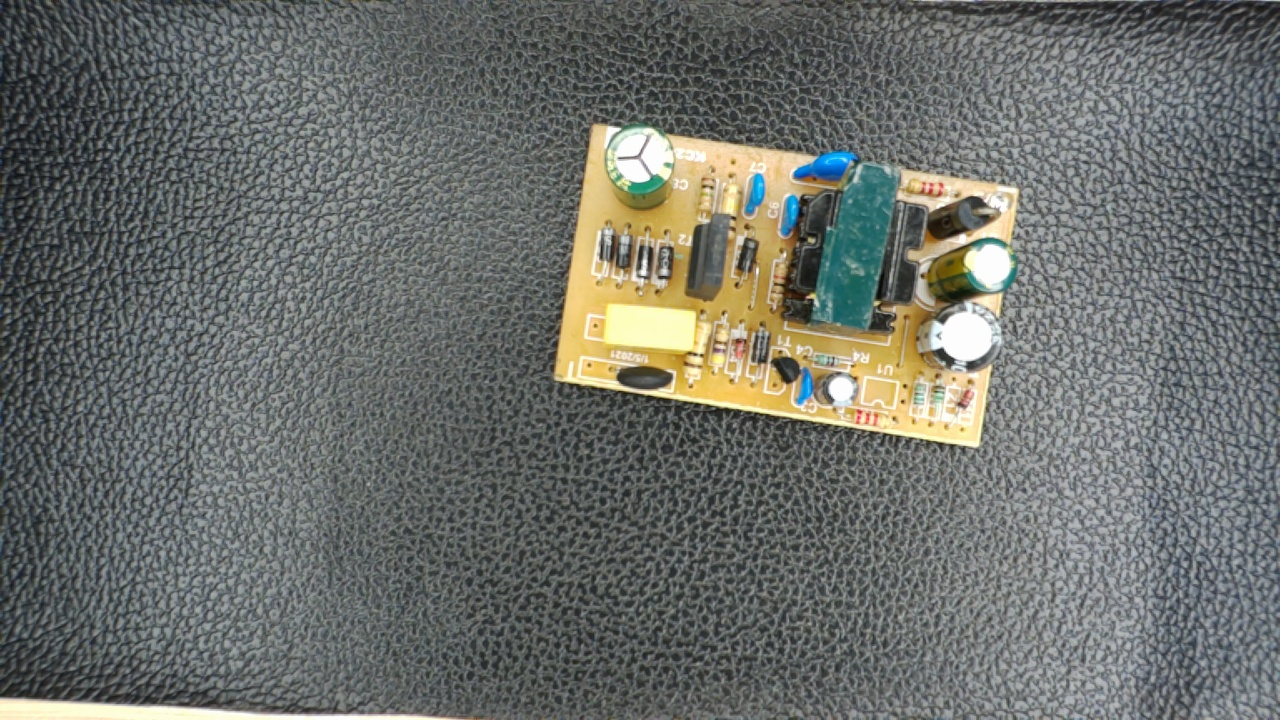fuse: (602, 354, 680, 393)
hv_capacitor: (600, 122, 681, 212)
mov: (789, 149, 867, 191)
